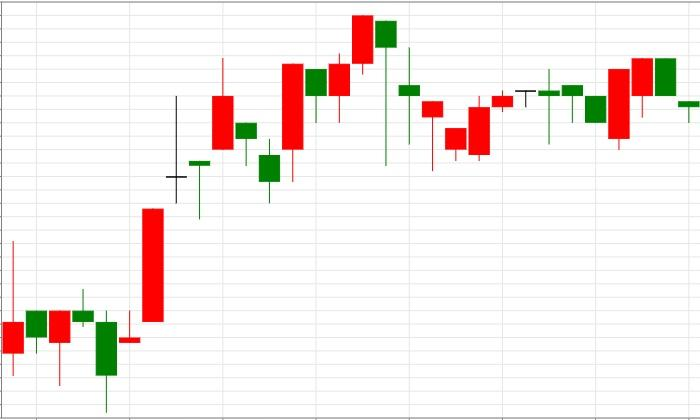bullish_engulfing_rise: (538, 68, 631, 150)
hanging_man_fall: (258, 15, 397, 204)
